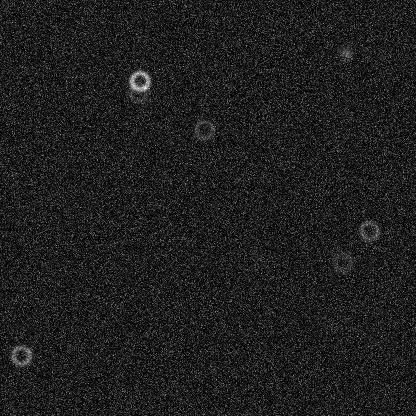Ring: (127, 68, 151, 92), (330, 250, 354, 274), (9, 343, 33, 367), (357, 218, 381, 242), (192, 117, 216, 141), (126, 80, 150, 104)
Spot: (338, 44, 354, 60)
